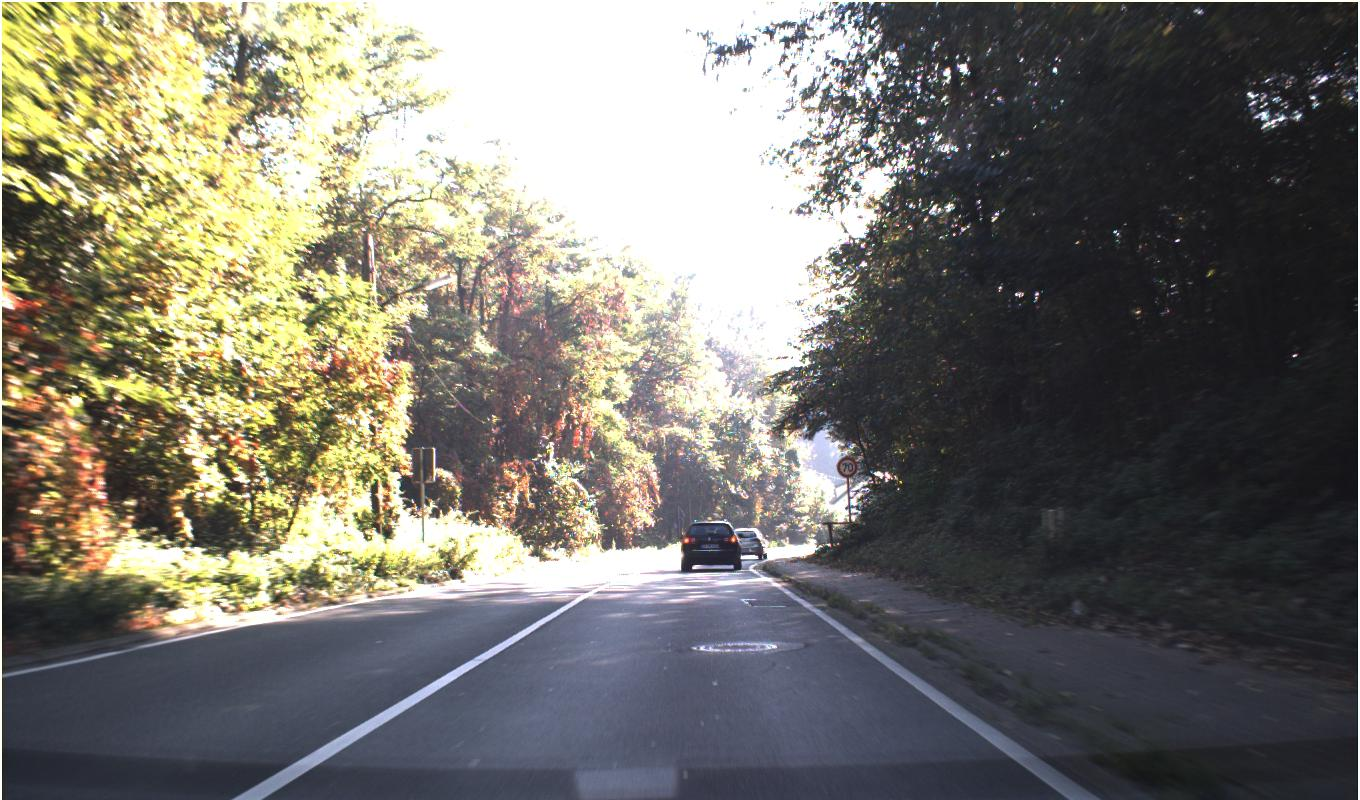prohibitory: (836, 456, 858, 478)
